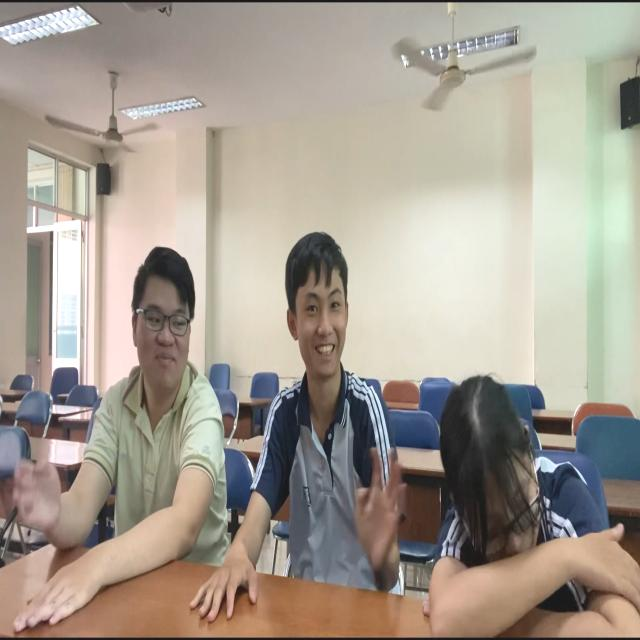sleep: (413, 369, 640, 640)
